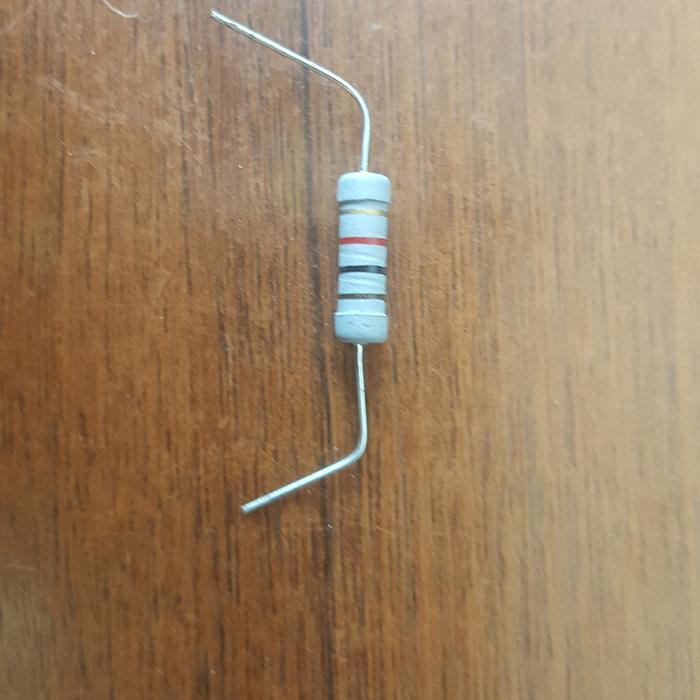resistor: (333, 168, 393, 343)
